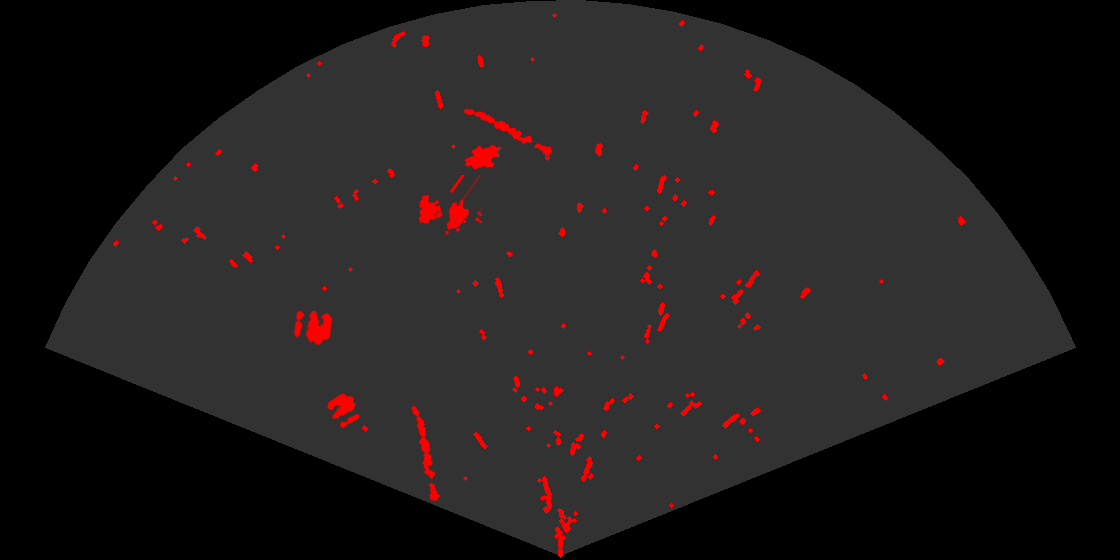AUV: (463, 144, 503, 171)
ball: (292, 309, 334, 347), (326, 392, 361, 430)
cage: (417, 175, 482, 236)
chain: (462, 107, 554, 158), (410, 404, 442, 503)
